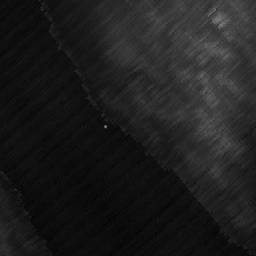Target: (102, 124, 108, 129)
